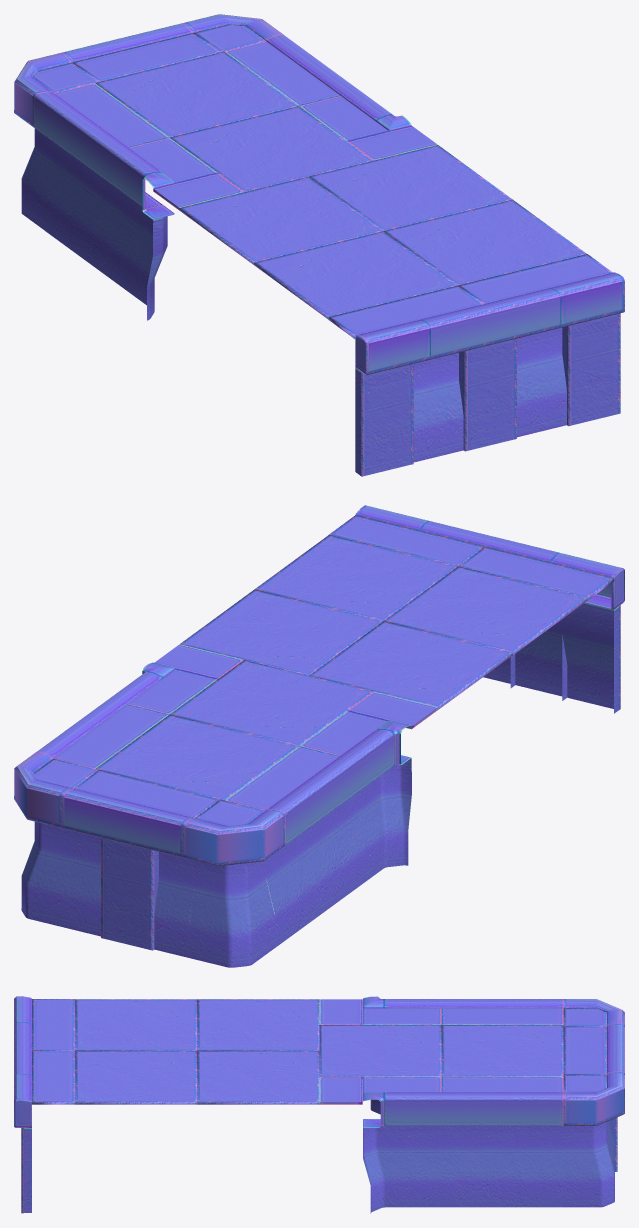
The model's file is Wharf30m_Dock_20m_01.fbx.
The picture shows the model from 3 angles, top to bottom: view 1: azimuth 30°, elevation 25°; view 2: azimuth 150°, elevation 25°; view 3: azimuth 270°, elevation 25°; orthographic projection. The views are drawn at different scales.
Visible parts, largest first — view 1: Wharf30m_Dock_20m_01_LOD0, Wharf30m_Dock_20m_01_Decal_LOD0; view 2: Wharf30m_Dock_20m_01_LOD0, Wharf30m_Dock_20m_01_Decal_LOD0; view 3: Wharf30m_Dock_20m_01_LOD0, Wharf30m_Dock_20m_01_Decal_LOD0.
Boxes of the visible parts, bbox=[...] form: Wharf30m_Dock_20m_01_LOD0: bbox=[14, 14, 622, 475]; Wharf30m_Dock_20m_01_Decal_LOD0: bbox=[14, 14, 624, 476]; Wharf30m_Dock_20m_01_LOD0: bbox=[14, 506, 623, 967]; Wharf30m_Dock_20m_01_Decal_LOD0: bbox=[14, 505, 624, 950]; Wharf30m_Dock_20m_01_LOD0: bbox=[14, 996, 624, 1213]; Wharf30m_Dock_20m_01_Decal_LOD0: bbox=[14, 996, 624, 1213].
Size of what is drawn, in the model's own units: 2020 by 1026 by 5004.
